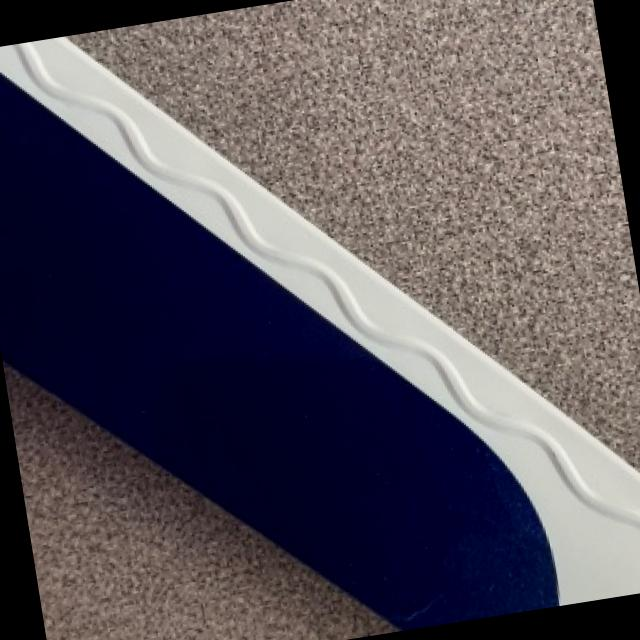healthy: (28, 464, 269, 640)
